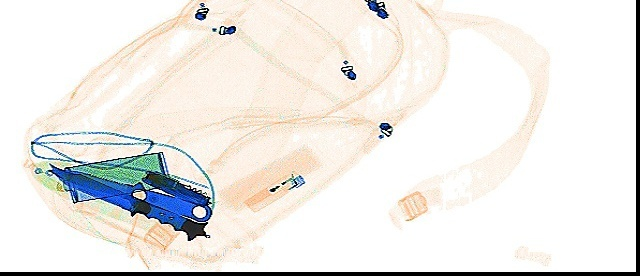knife: (43, 161, 211, 243), (138, 165, 213, 210)
lighter: (241, 165, 307, 213)
zippooil: (56, 146, 174, 205)
